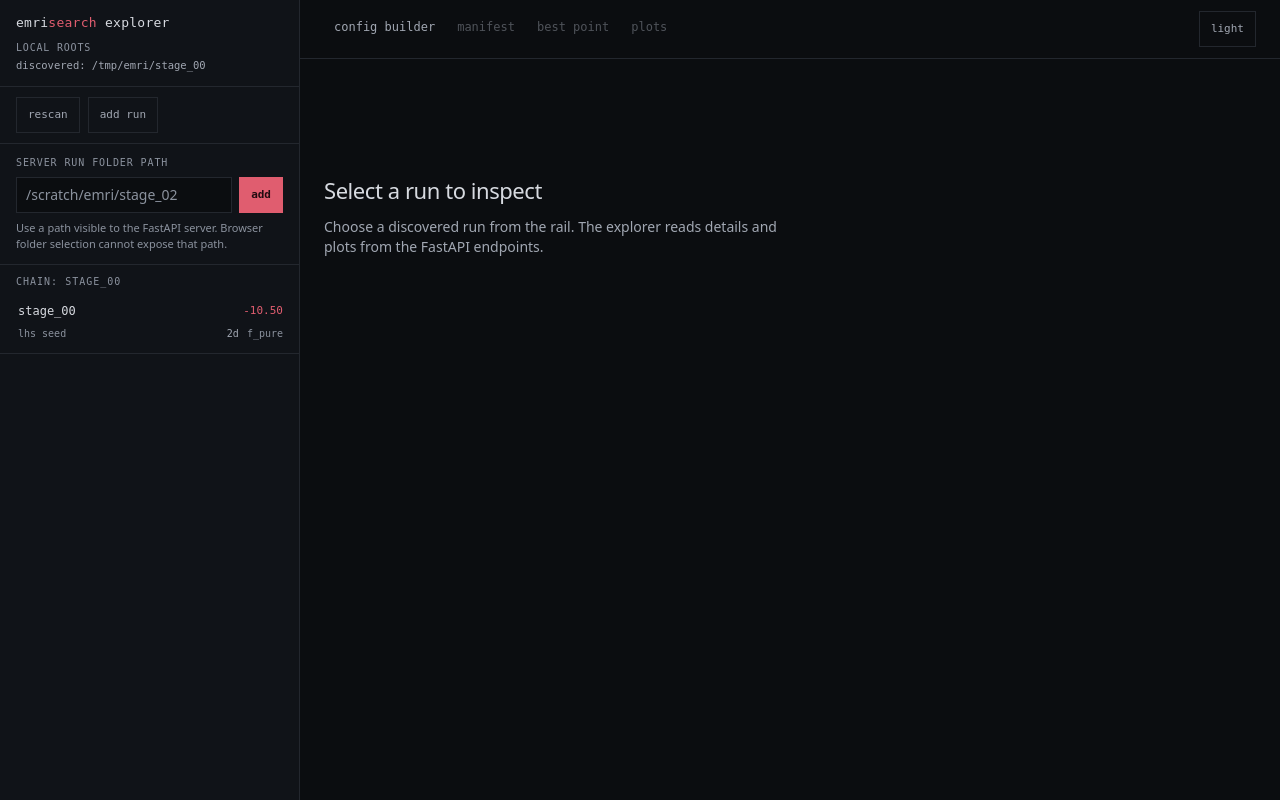
Test: detail, diagnostics, plots, and theme controls › persists the dark/light shell theme and exposes an accessible toggle
Expected: the button "stage_00 -10.50 lhs seed 2df_pure" is shown, [0, 295, 299, 353]
Click the button with aria-label "Switch to light theme": click(1227, 29) [1199, 11, 1256, 47]
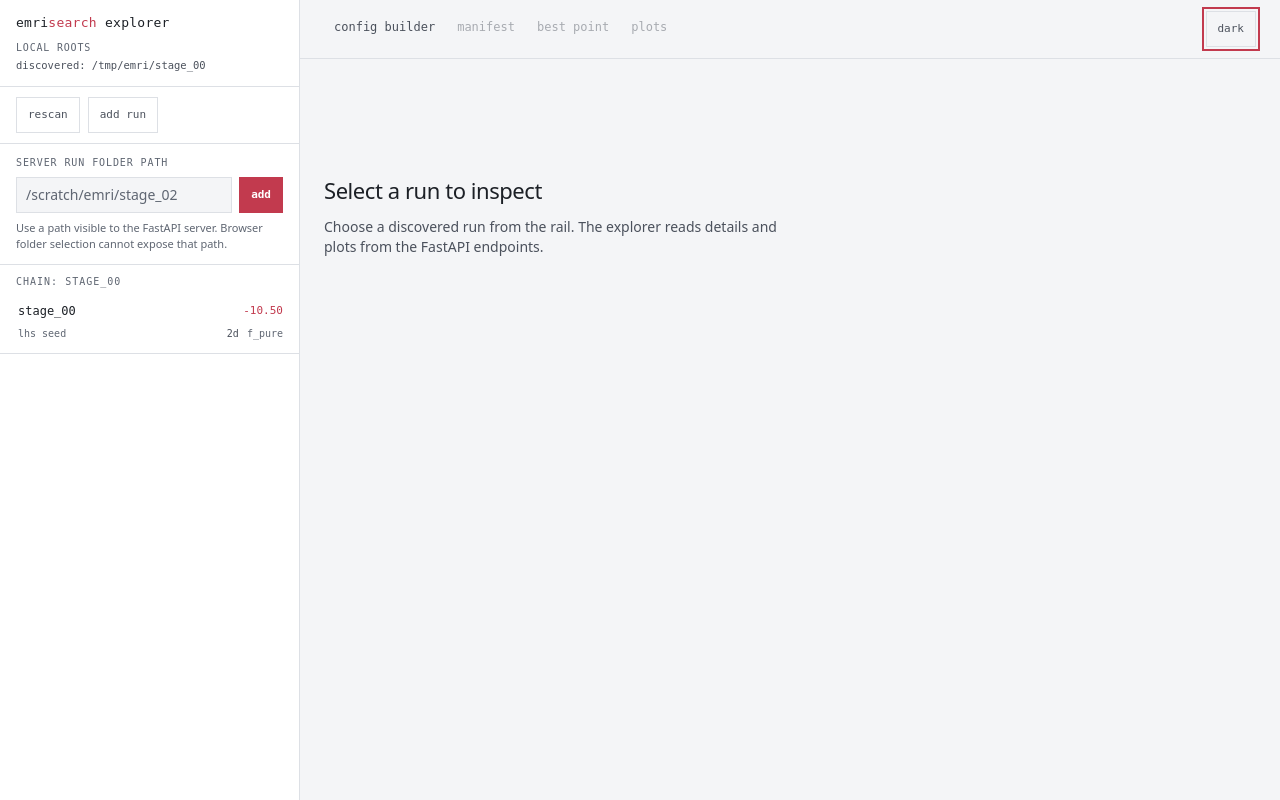
Expected: the button with aria-label "Switch to dark theme" is shown, [1206, 11, 1256, 47]
